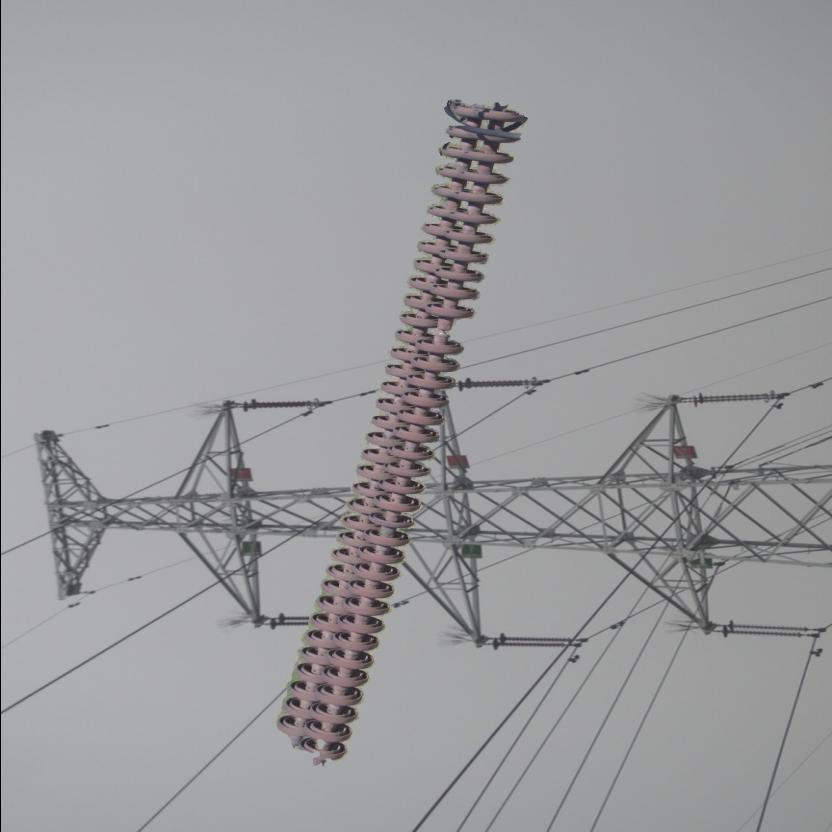defect: (411, 303, 474, 361)
